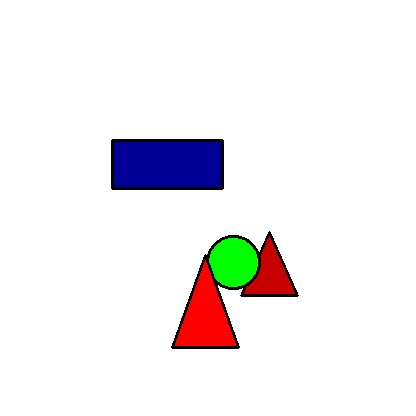circle: (207, 227, 259, 298)
rectangle: (112, 140, 222, 188)
triangle: (172, 255, 238, 347), (241, 232, 297, 295)
